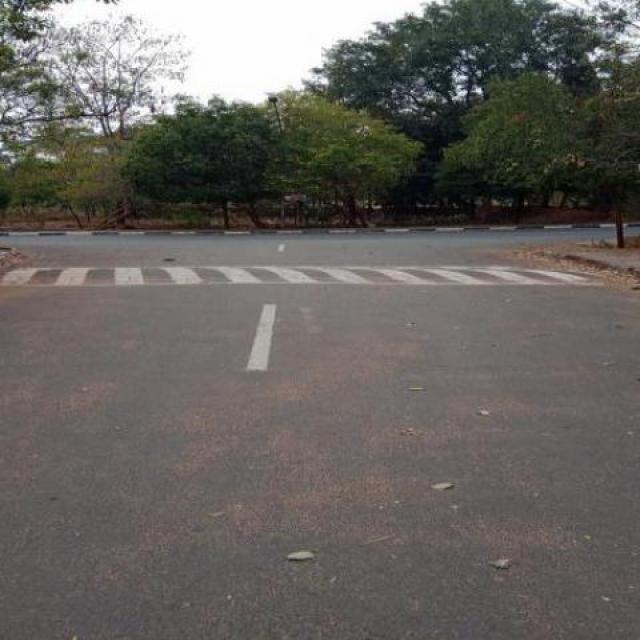Speed Bump: (0, 264, 607, 288)
